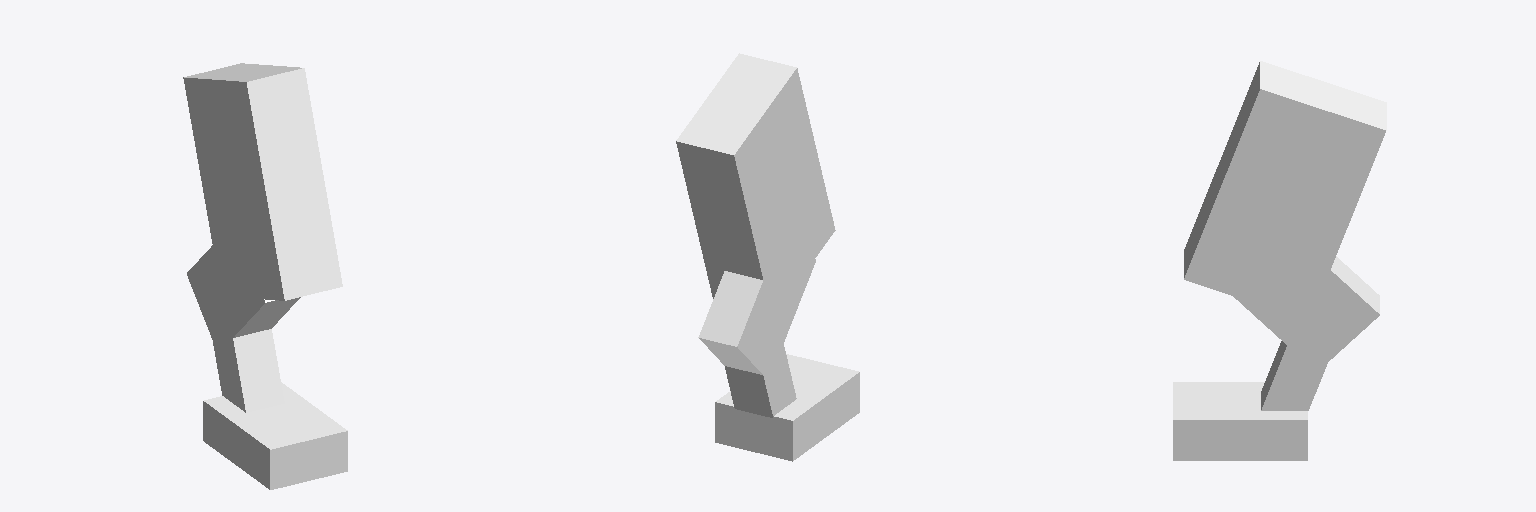
File: meng_hind_left_leg.obj
The picture shows the model from 3 angles: view 1: azimuth 30°, elevation 25°; view 2: azimuth 150°, elevation 25°; view 3: azimuth 270°, elevation 25°; orthographic projection.
Parts seen in each view (by area): view 1: Element #1, Element #6, Element #7, Element #3; view 2: Element #1, Element #3, Element #6, Element #7; view 3: Element #1, Element #6, Element #3, Element #7.
Boxes of the visible parts, x1=… form: Element #1: x1=183, y1=63, x2=342, y2=300; Element #6: x1=203, y1=382, x2=347, y2=489; Element #7: x1=203, y1=281, x2=284, y2=412; Element #3: x1=187, y1=229, x2=300, y2=347; Element #1: x1=676, y1=53, x2=835, y2=298; Element #3: x1=698, y1=227, x2=815, y2=380; Element #6: x1=715, y1=354, x2=859, y2=461; Element #7: x1=725, y1=338, x2=796, y2=417; Element #1: x1=1184, y1=61, x2=1386, y2=320; Element #6: x1=1173, y1=382, x2=1307, y2=460; Element #3: x1=1233, y1=256, x2=1379, y2=371; Element #7: x1=1261, y1=307, x2=1347, y2=410.
Size of the model in its own units: 2 by 9.16 by 4.76.